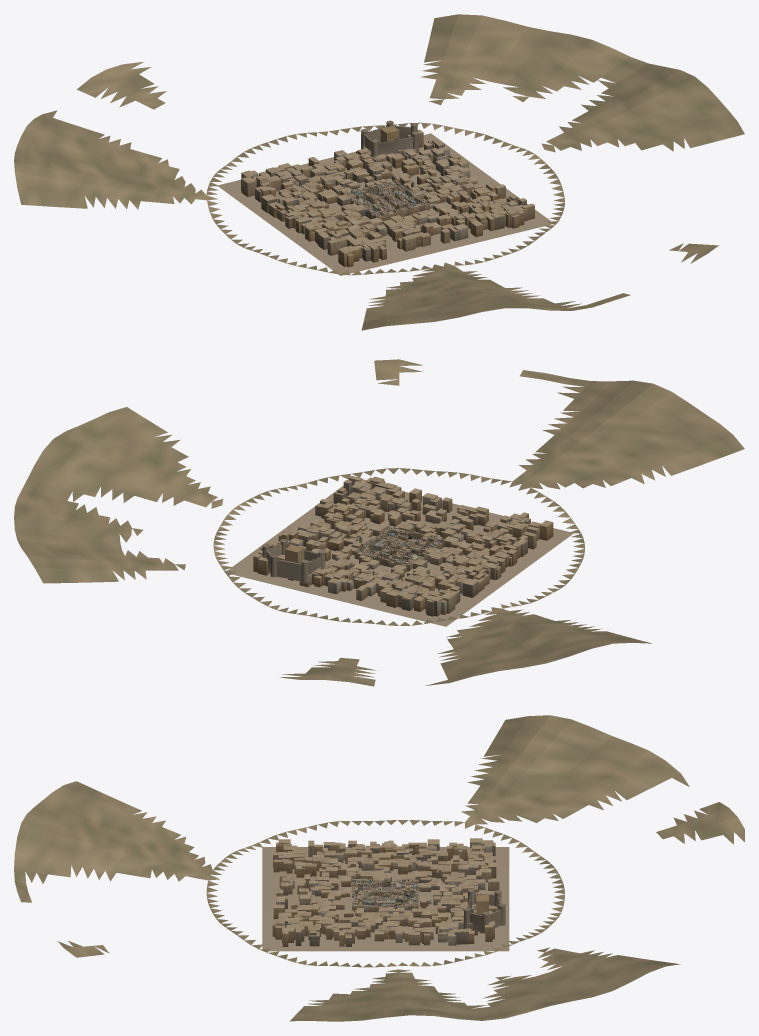
The model's file is kervansaray.glb.
The picture shows the model from 3 angles, top to bottom: view 1: azimuth 30°, elevation 25°; view 2: azimuth 150°, elevation 25°; view 3: azimuth 270°, elevation 25°; orthographic projection. The views are drawn at different scales.
Parts seen in each view (by area): view 1: KV_ARKA_PLAN, KV_BINALAR; view 2: KV_ARKA_PLAN, KV_BINALAR; view 3: KV_ARKA_PLAN, KV_BINALAR.
Part boxes in pixels (bbox=[...]): KV_ARKA_PLAN: bbox=[14, 14, 744, 330]; KV_BINALAR: bbox=[342, 179, 429, 220]; KV_ARKA_PLAN: bbox=[14, 359, 744, 686]; KV_BINALAR: bbox=[354, 527, 444, 571]; KV_ARKA_PLAN: bbox=[14, 715, 744, 1021]; KV_BINALAR: bbox=[351, 878, 418, 912].
Bounding box in the file's own units: 1406 × 97.38 × 1419.
